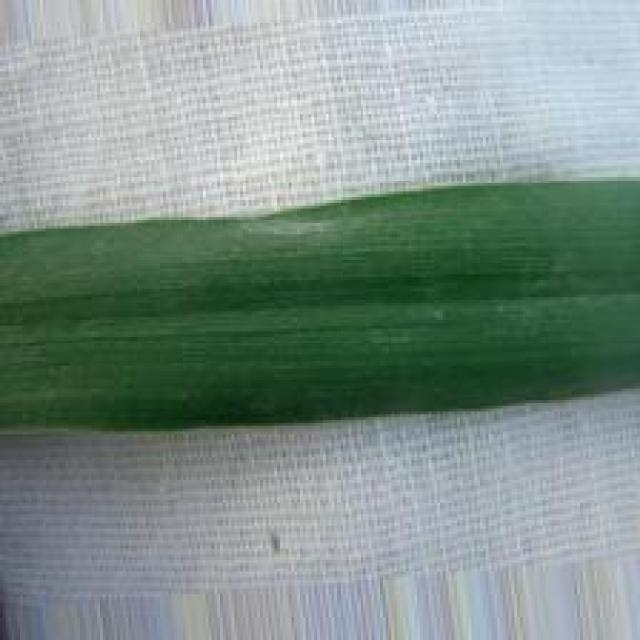Healthy: (0, 173, 640, 436)
